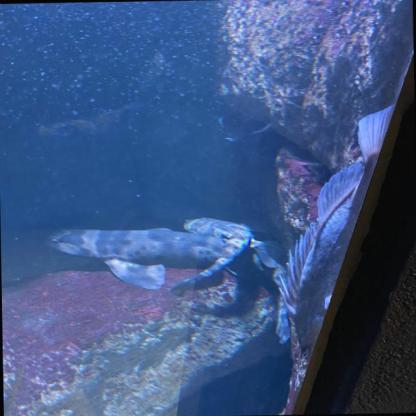fish: (276, 106, 401, 355)
shark: (42, 226, 252, 297), (183, 216, 292, 344)
